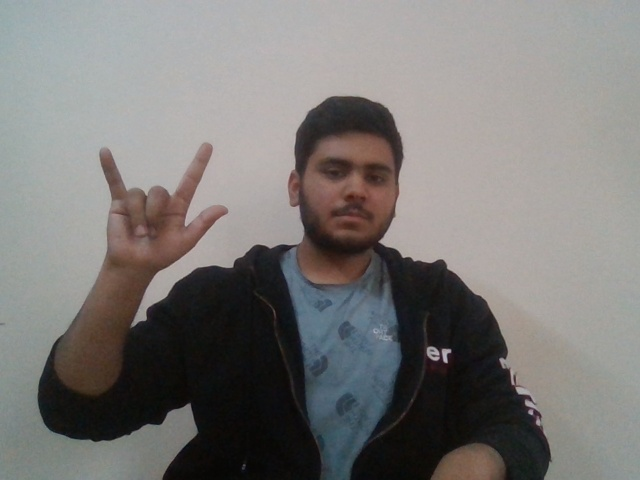IloveYou: (75, 137, 233, 266)
